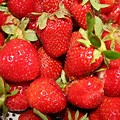Fresa: (1, 37, 42, 84), (64, 33, 104, 80), (35, 11, 74, 59), (27, 76, 67, 115), (66, 75, 105, 111)
